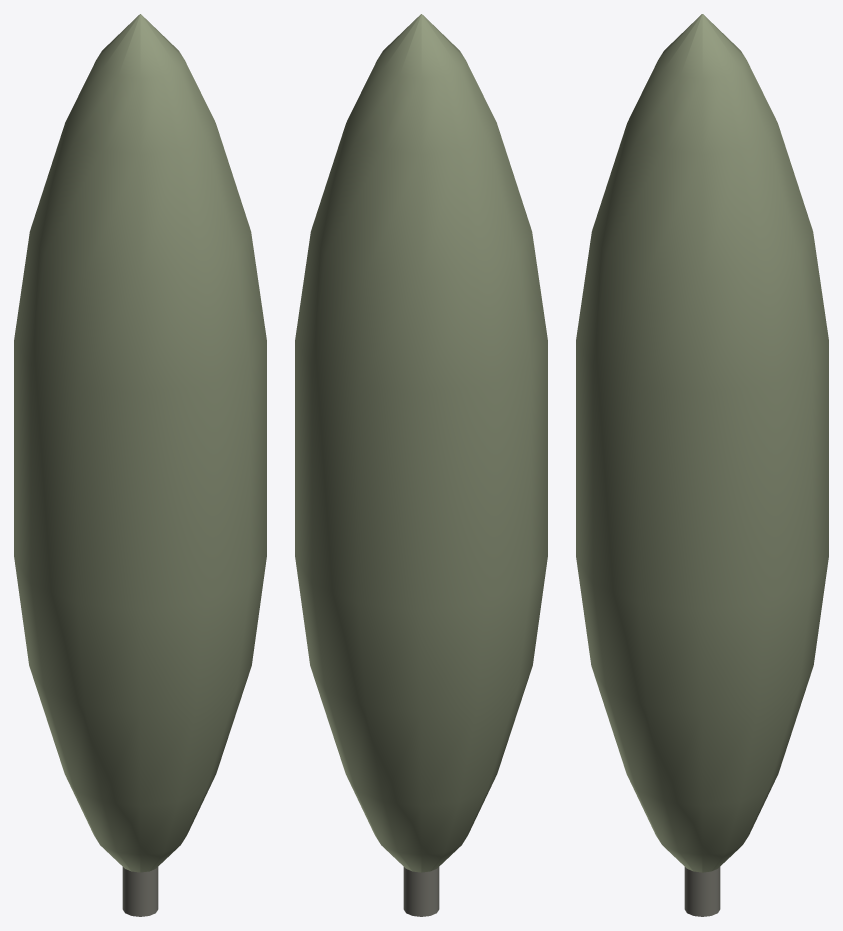
File: Leyland_Cypress_Analytical_0.obj
The picture shows the model from 3 angles, left to right: view 1: azimuth 30°, elevation 25°; view 2: azimuth 150°, elevation 25°; view 3: azimuth 270°, elevation 25°; orthographic projection.
Visible parts, largest first — view 1: AnalyticalCrown, AnalyticalTrunk; view 2: AnalyticalCrown, AnalyticalTrunk; view 3: AnalyticalCrown, AnalyticalTrunk.
Boxes of the visible parts, <box> form: AnalyticalCrown: <box>14,14,266,872</box>; AnalyticalTrunk: <box>122,867,158,916</box>; AnalyticalCrown: <box>295,14,547,872</box>; AnalyticalTrunk: <box>403,867,439,916</box>; AnalyticalCrown: <box>576,14,828,872</box>; AnalyticalTrunk: <box>684,867,720,916</box>.
Size of the model in its own units: 1.28 by 5 by 1.28.
